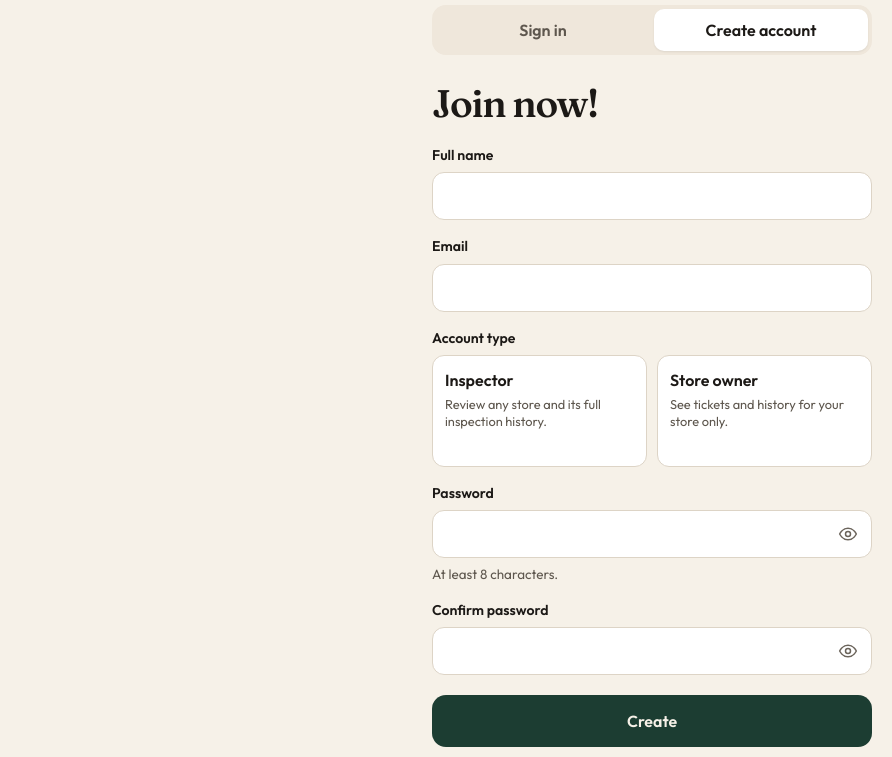
US 12 Create an account › shows a general error when the server fails, keeping the form filled in
In the field labelled "Full name": (652, 196) x1=432 y1=172 x2=872 y2=220, type "Ada Inspector"
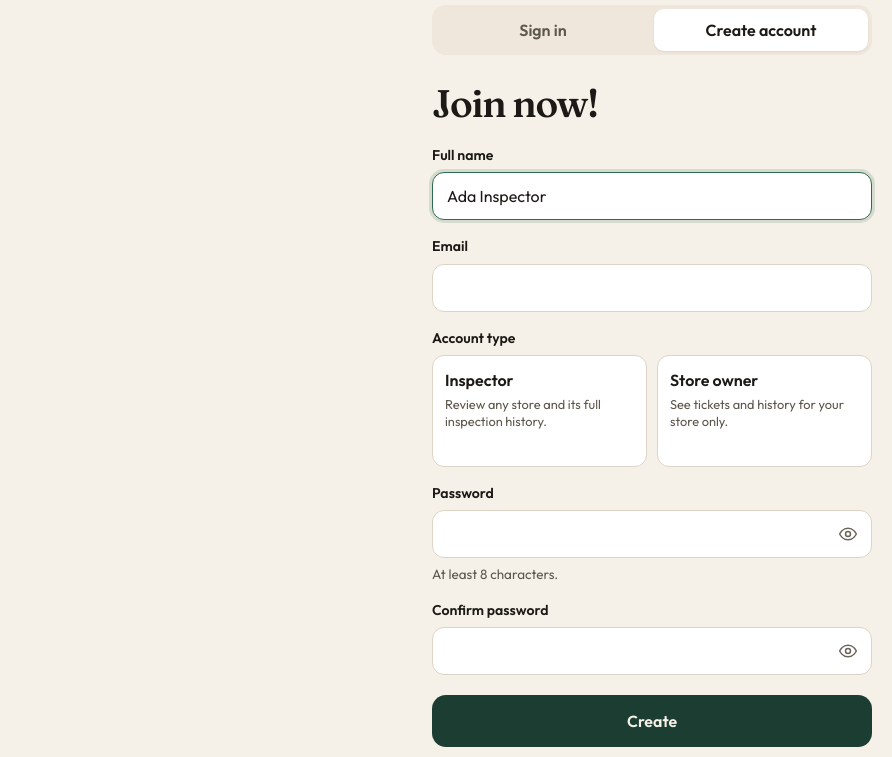
In the field labelled "Email": (652, 288) x1=432 y1=264 x2=872 y2=312, type "ada@example.com"
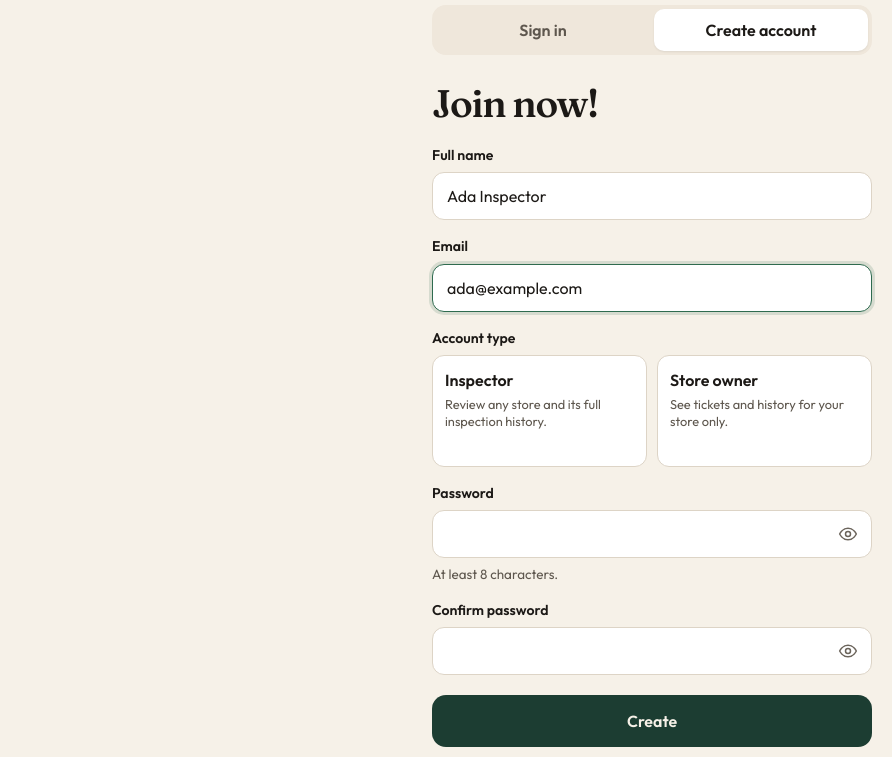
Click the radio button labelled "Inspector Review any store and its full inspection history.": (540, 411) x1=432 y1=355 x2=647 y2=467
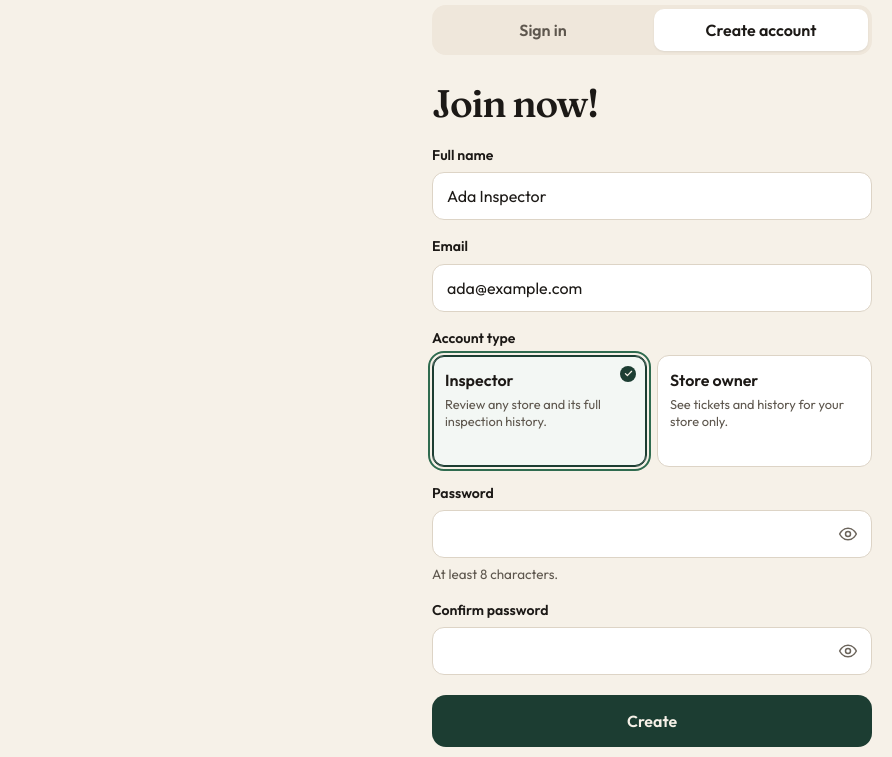
In the password field labelled "Password": (652, 534) x1=432 y1=510 x2=872 y2=558, type "correct-horse"
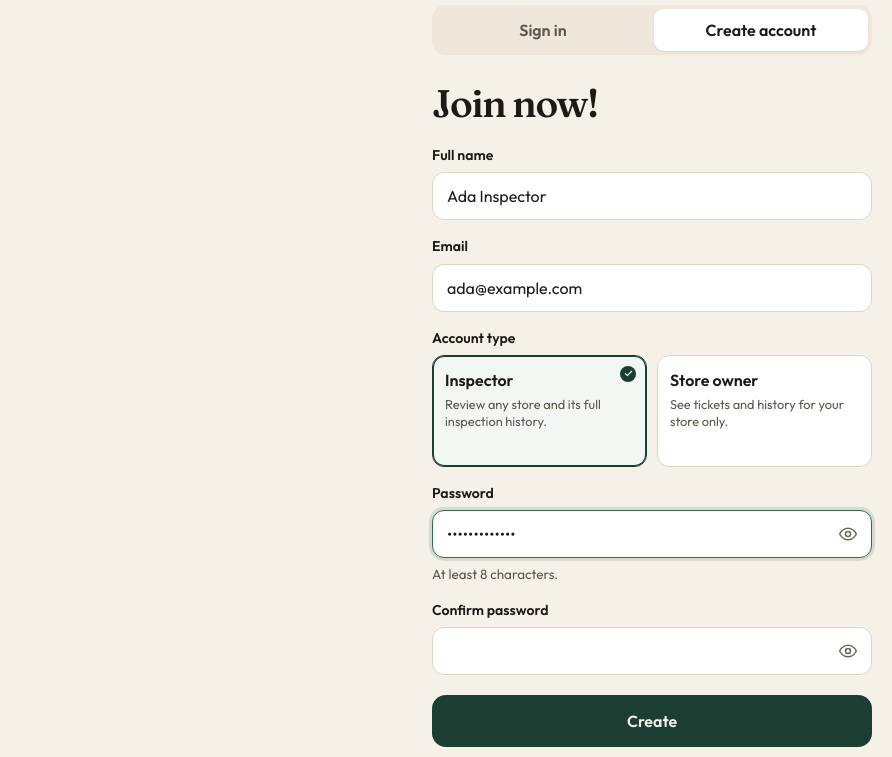
In the password field labelled "Confirm password": (652, 651) x1=432 y1=627 x2=872 y2=675, type "correct-horse"
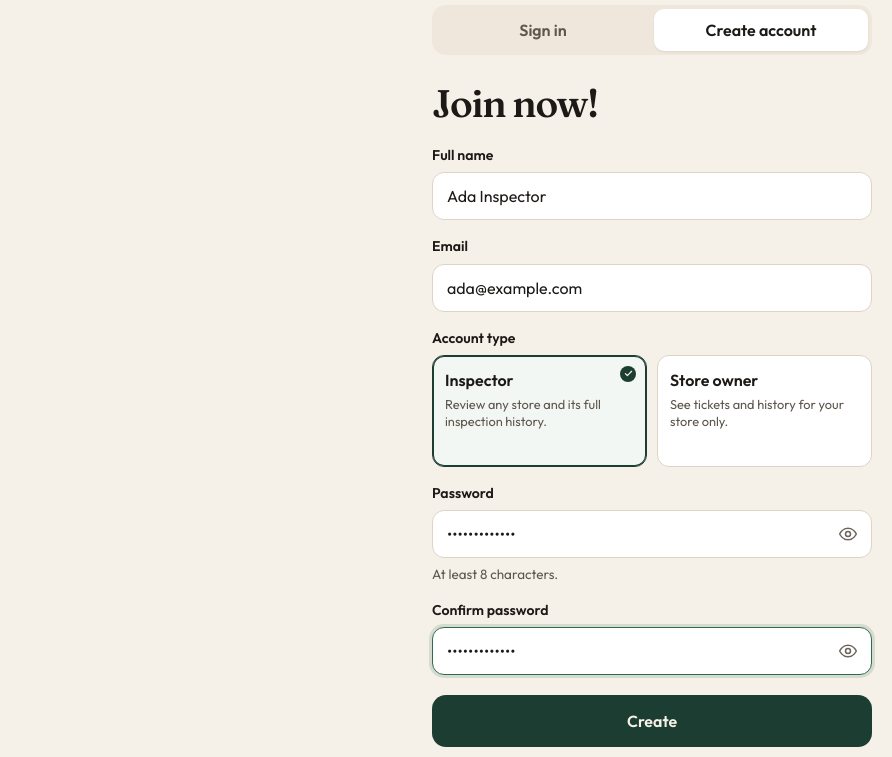
Click the button "Create": (652, 721) x1=432 y1=695 x2=872 y2=747
(page scrolled)
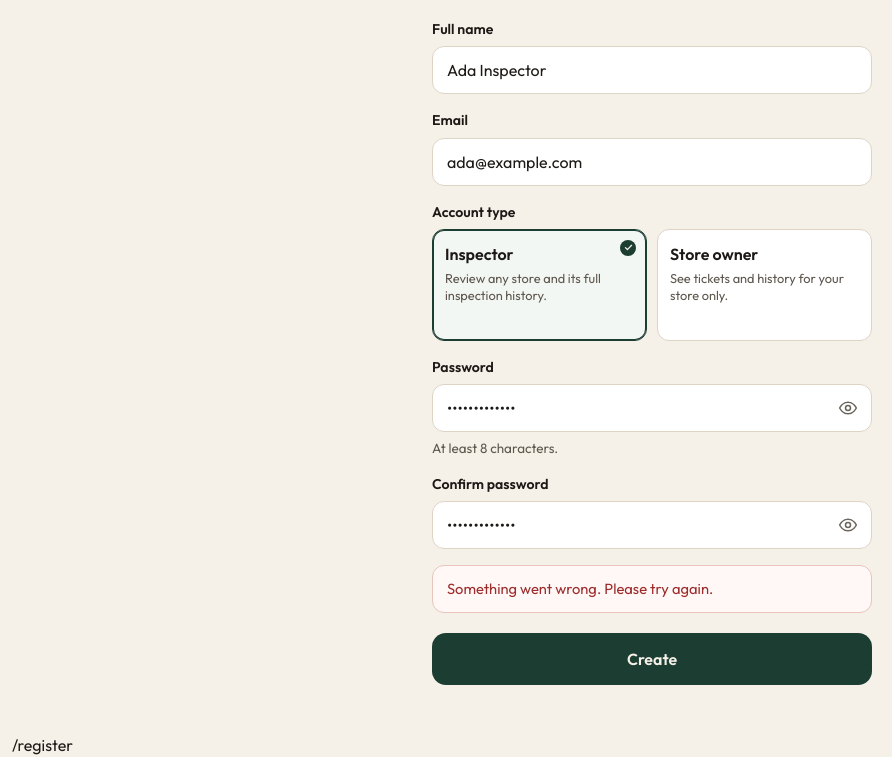
Check: the text with test id "location" reads "/register", box x1=12 y1=735 x2=73 y2=755
Check: the message reads "Something went wrong. Please try again.", box x1=447 y1=579 x2=713 y2=598
